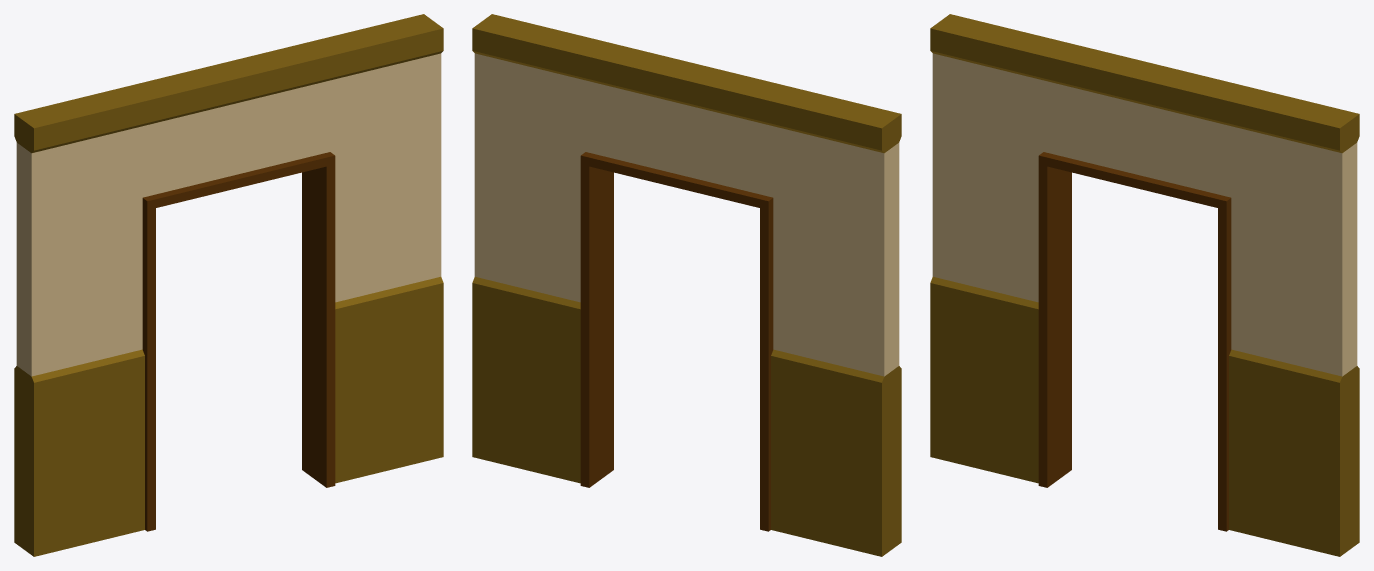
File: Classic_WallDoorFrame_02_snaps001_01.fbx
The picture shows the model from 3 angles, left to right: view 1: azimuth 30°, elevation 25°; view 2: azimuth 150°, elevation 25°; view 3: azimuth 330°, elevation 25°; orthographic projection.
Visible parts, largest first — view 1: Classic_WallDoorFrame_02_snaps001_01; view 2: Classic_WallDoorFrame_02_snaps001_01; view 3: Classic_WallDoorFrame_02_snaps001_01.
Boxes of the visible parts, <box> form: Classic_WallDoorFrame_02_snaps001_01: <box>14,14,443,556</box>; Classic_WallDoorFrame_02_snaps001_01: <box>472,14,901,556</box>; Classic_WallDoorFrame_02_snaps001_01: <box>930,14,1359,556</box>.
Size of the model in its own units: 300 by 300 by 31.25.
